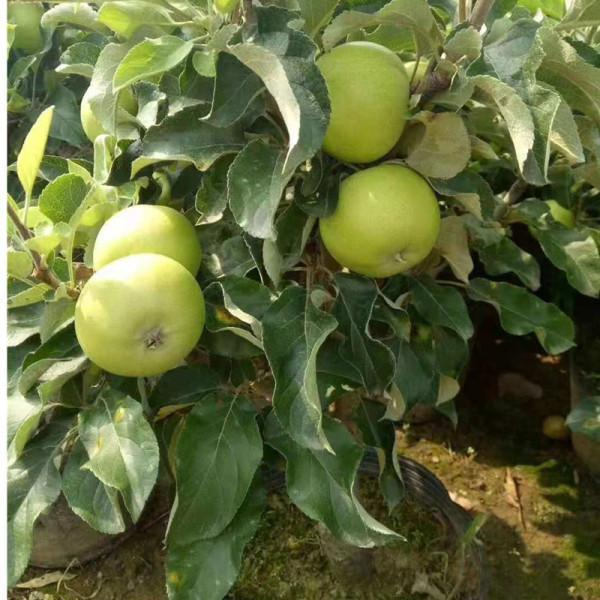apple: (71, 255, 204, 378), (318, 164, 438, 276), (317, 43, 411, 162), (89, 203, 200, 278)
